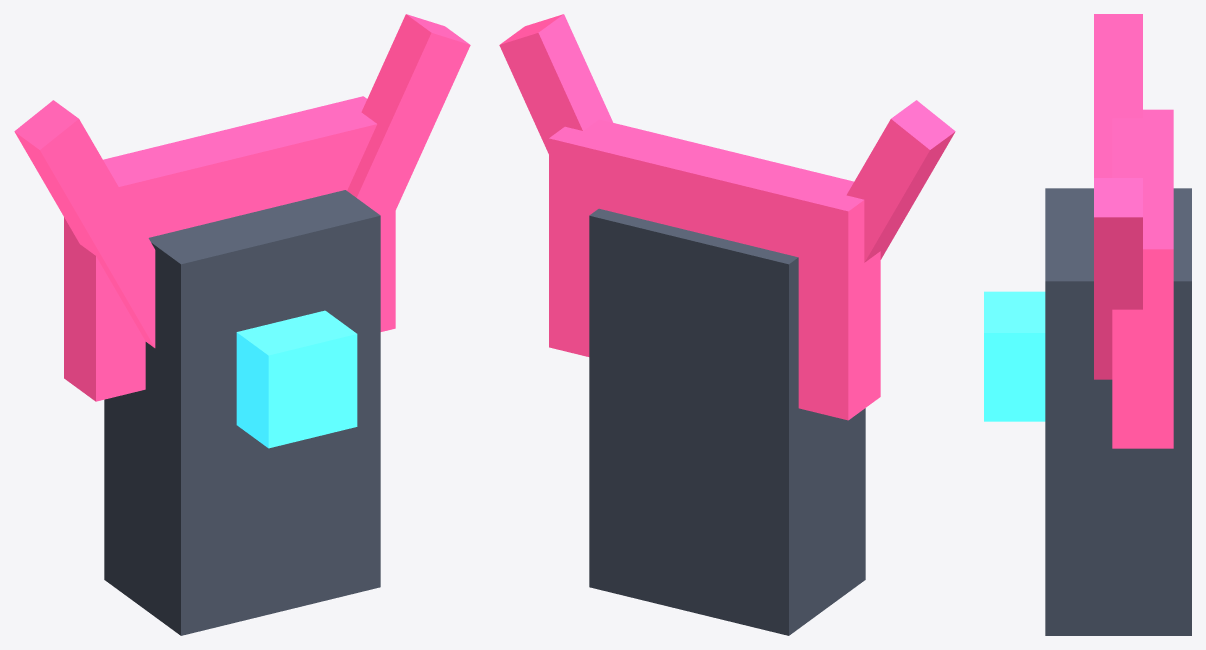
File: margin_wraith_design.glb
3 renders of one model, left to right at view 1: azimuth 30°, elevation 25°; view 2: azimuth 150°, elevation 25°; view 3: azimuth 270°, elevation 25°, orthographic. The views are drawn at different scales.
Parts seen in each view (by area): view 1: Torso, Ink_Mantle, Core, Quill_Left, Quill_Right; view 2: Torso, Ink_Mantle, Quill_Left, Quill_Right; view 3: Torso, Ink_Mantle, Core, Quill_Right, Quill_Left.
Boxes of the visible parts, x1=… form: Torso: x1=104, y1=190, x2=380, y2=635; Ink_Mantle: x1=64, y1=96, x2=395, y2=401; Core: x1=236, y1=310, x2=357, y2=448; Quill_Left: x1=14, y1=100, x2=155, y2=347; Quill_Right: x1=347, y1=14, x2=470, y2=242; Torso: x1=589, y1=208, x2=865, y2=635; Ink_Mantle: x1=549, y1=119, x2=880, y2=420; Quill_Left: x1=846, y1=100, x2=955, y2=262; Quill_Right: x1=499, y1=14, x2=612, y2=153; Torso: x1=1045, y1=188, x2=1191, y2=635; Ink_Mantle: x1=1112, y1=109, x2=1173, y2=448; Core: x1=984, y1=291, x2=1045, y2=421; Quill_Right: x1=1094, y1=178, x2=1142, y2=379; Quill_Left: x1=1094, y1=14, x2=1142, y2=177.
Bounding box in the file's own units: 38.82 × 44.53 × 17.
